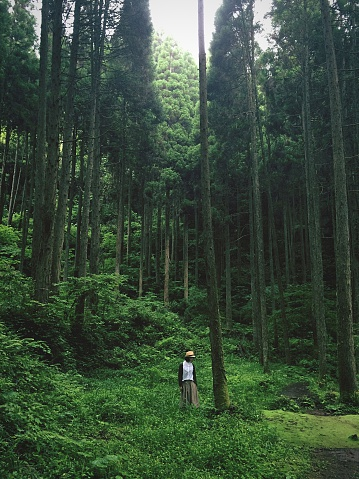em pe: (172, 341, 196, 407)
